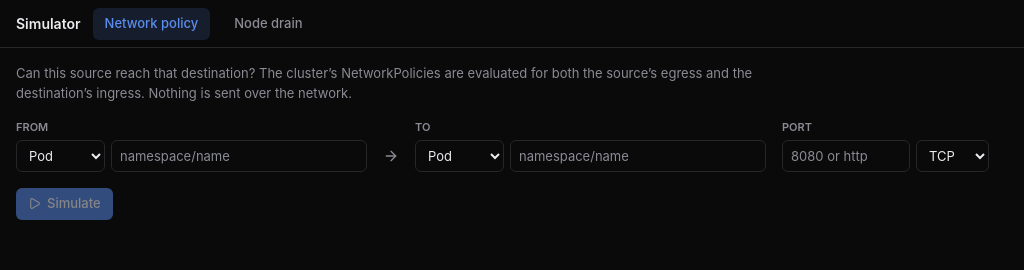
Test: Simulator › shows the network backend error
The width and height of the screenshot is (1024, 270).
Step 1. Type "a/b" into the field named "From name" → [239, 156], box [111, 140, 367, 172]
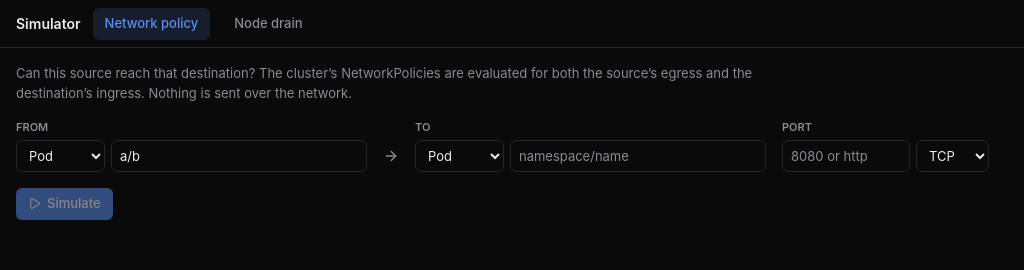
Step 2. Type "c/d" into the field named "To name" → [638, 156], box [510, 140, 766, 172]
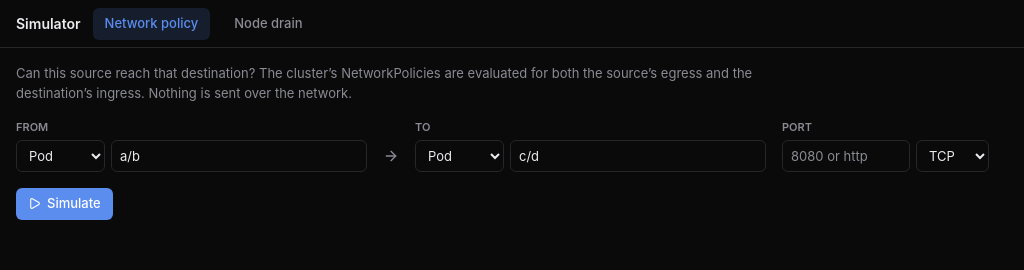
Step 3. Click the button "Simulate" → [64, 204], box [16, 188, 113, 220]
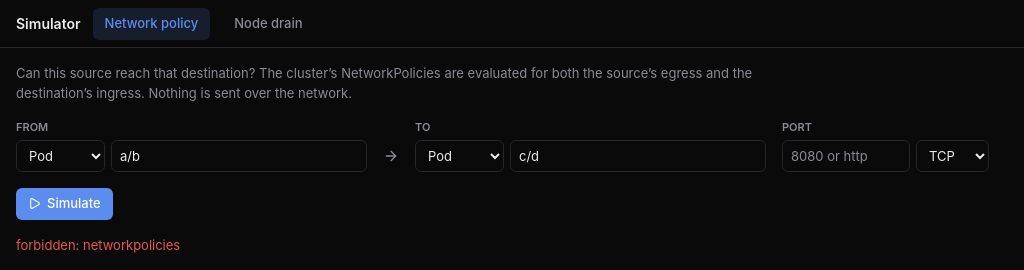
expect the text "forbidden: networkpolicies" is shown: met, box [16, 236, 180, 252]
